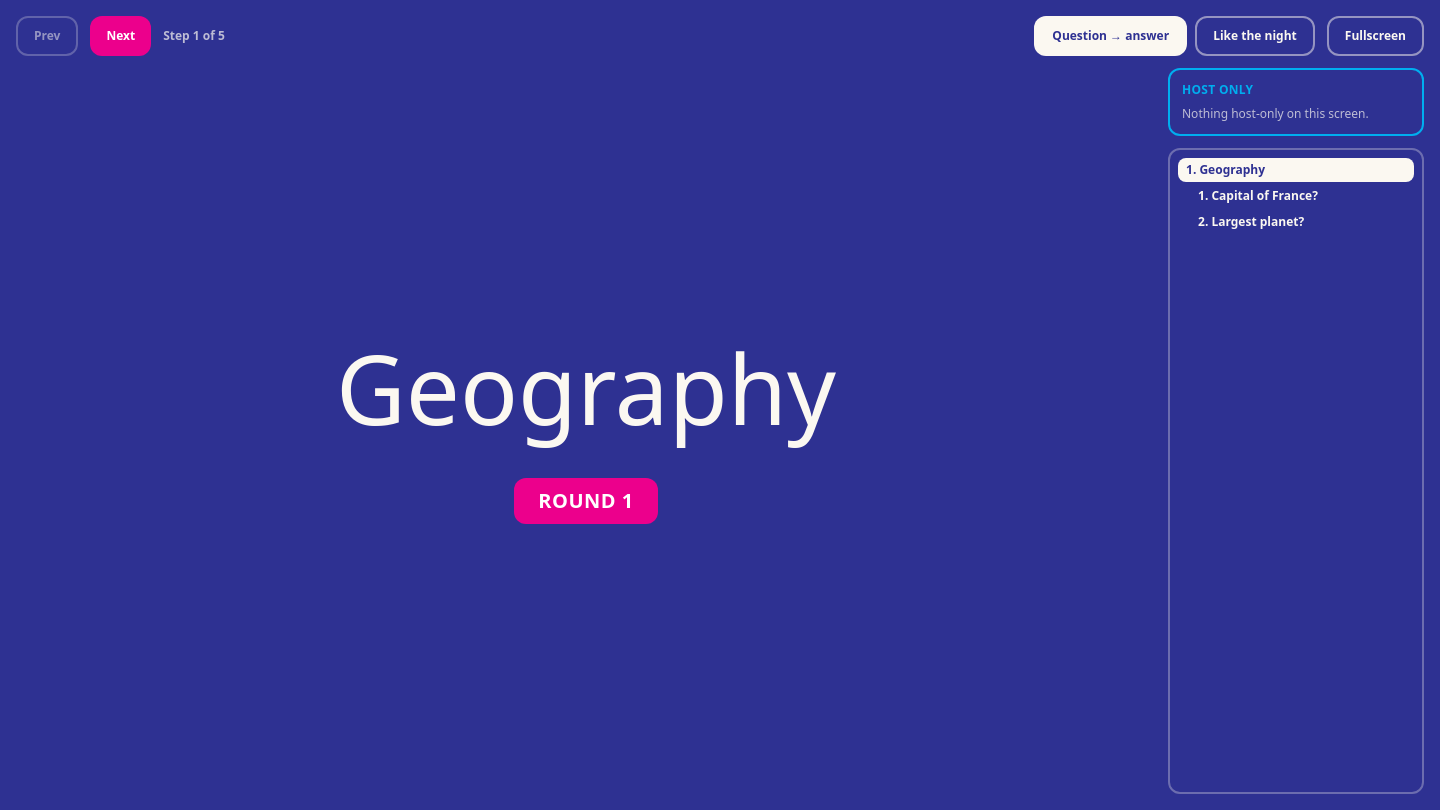
QuizPreviewPanel › fullscreen › leaves on Escape, back to the panel, list and controls at the same step
Expected: the button "Next" is shown, x1=90 y1=16 x2=151 y2=56
Click the button "Fullscreen": (1375, 36) x1=1327 y1=16 x2=1424 y2=56
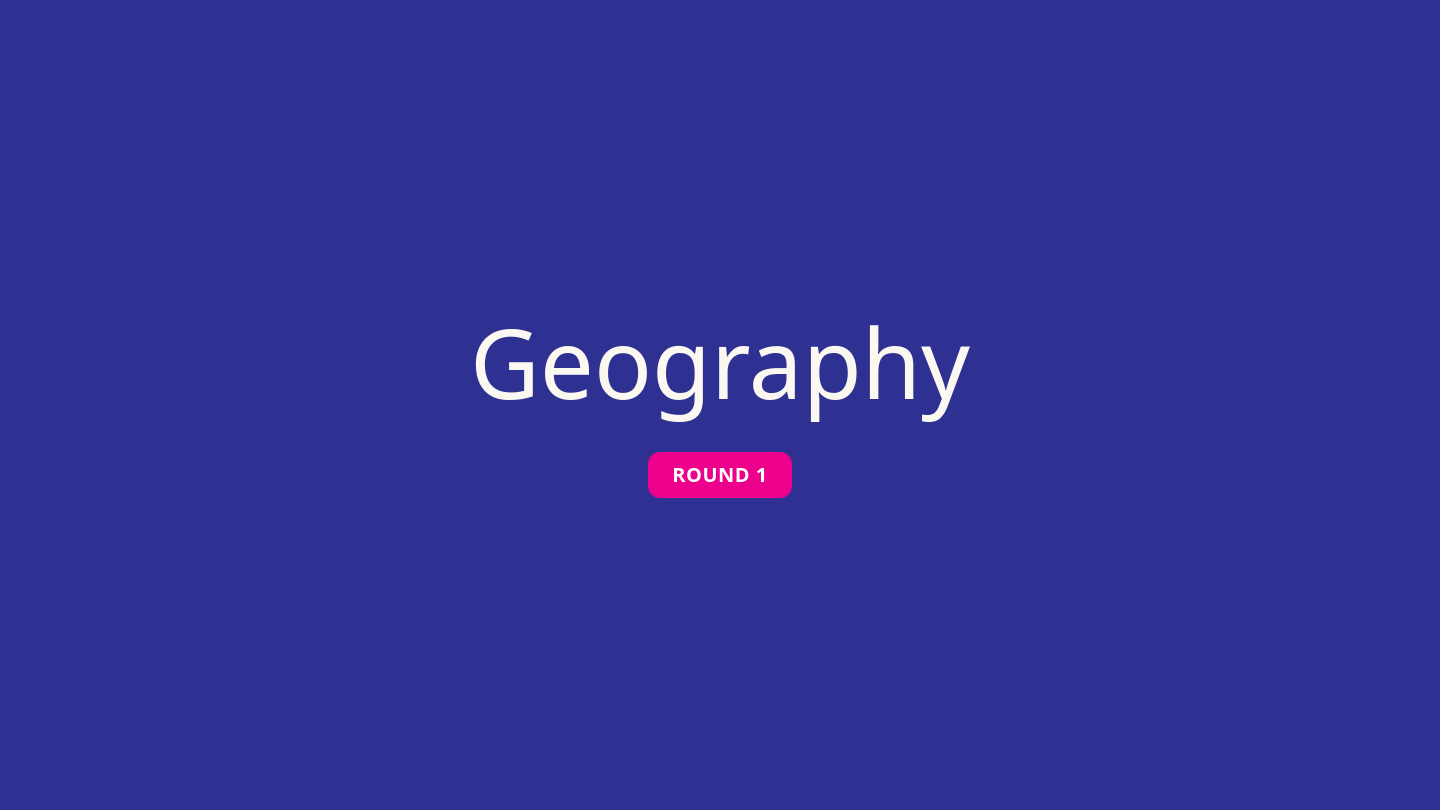
Press Arrowright
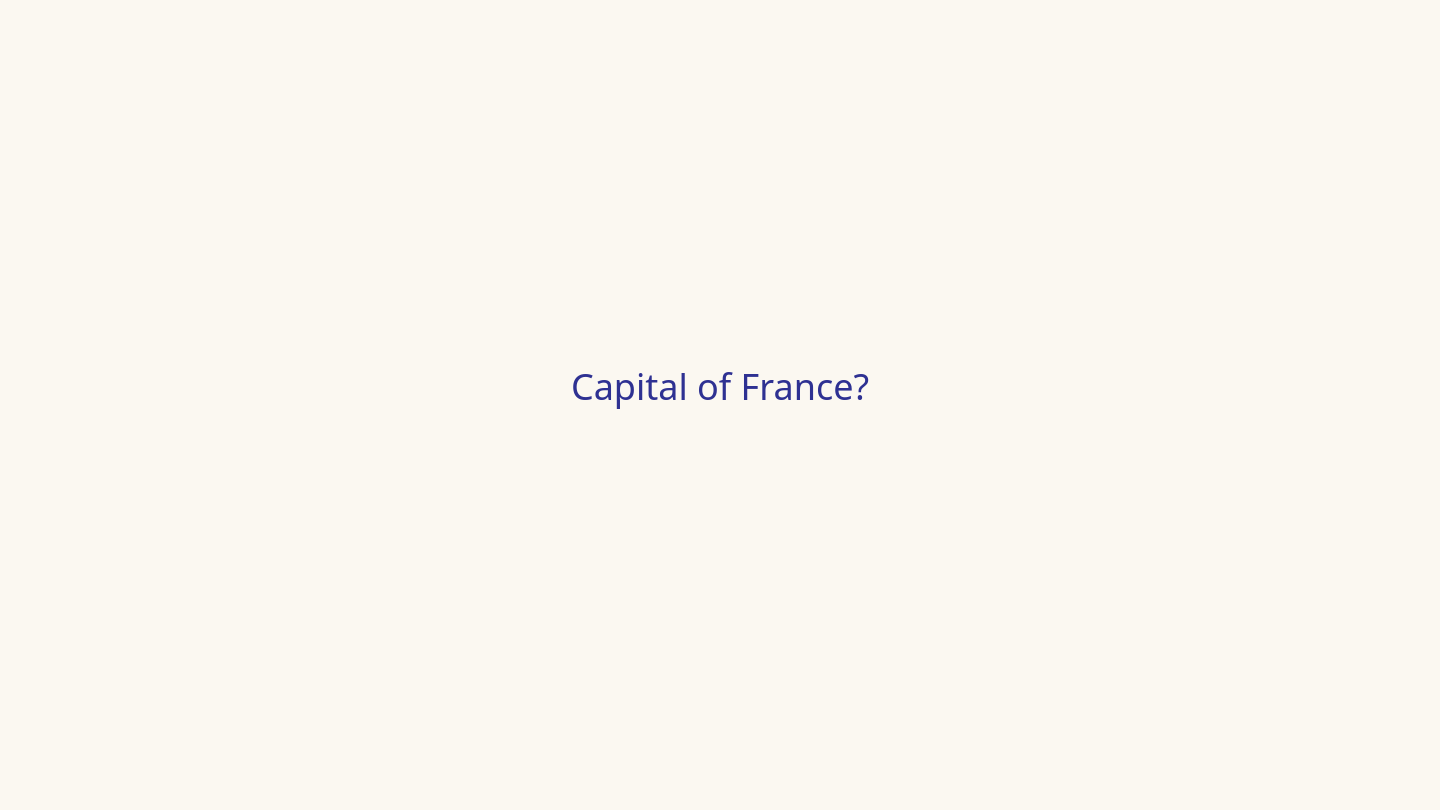
Press Escape
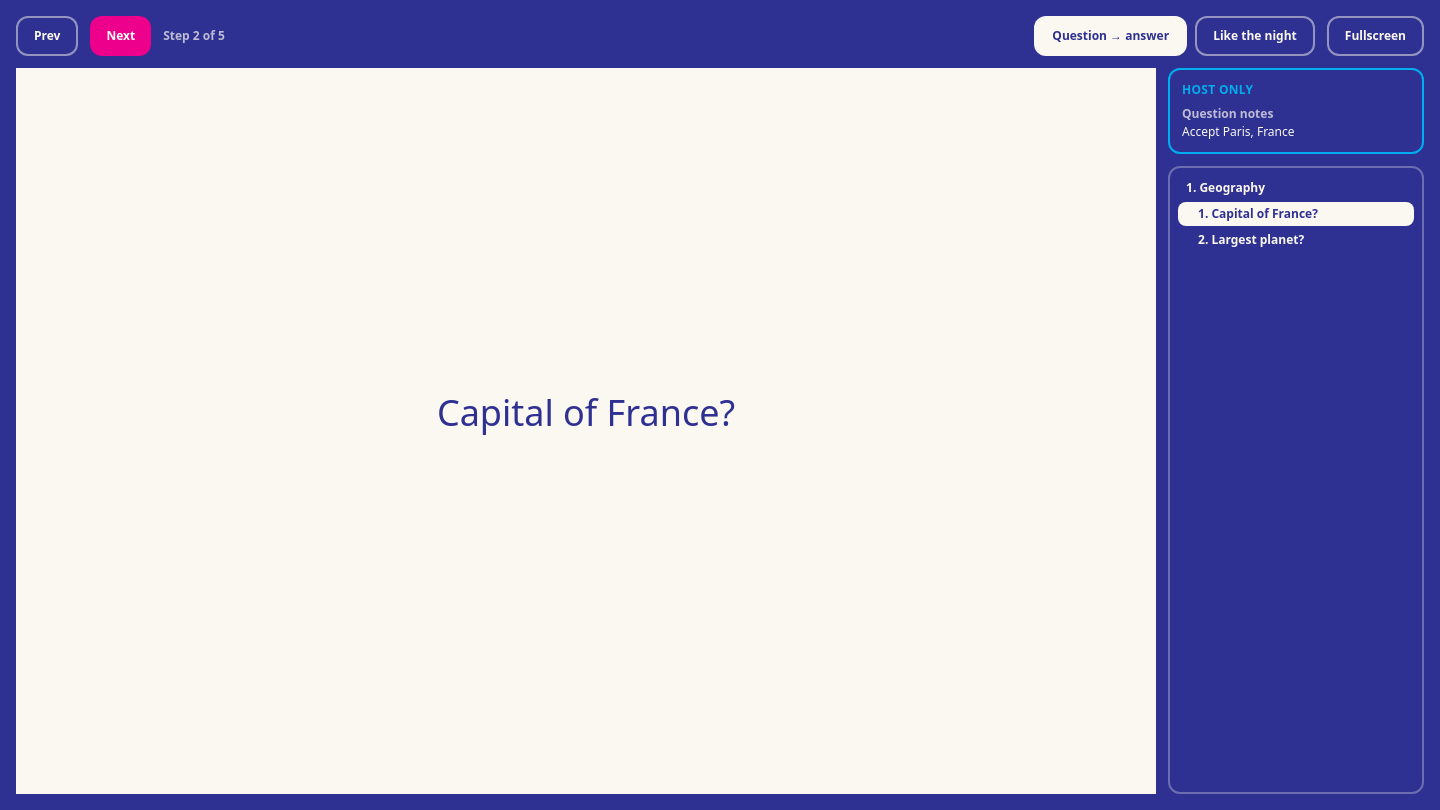
Expected: the element "Host only Question notes Accept Paris, France" is shown, x1=1168 y1=68 x2=1424 y2=154
Expected: the navigation bar named "jump to" is shown, x1=1168 y1=166 x2=1424 y2=794
Expected: the text "Step 2 of 5" is shown, x1=163 y1=28 x2=225 y2=44
